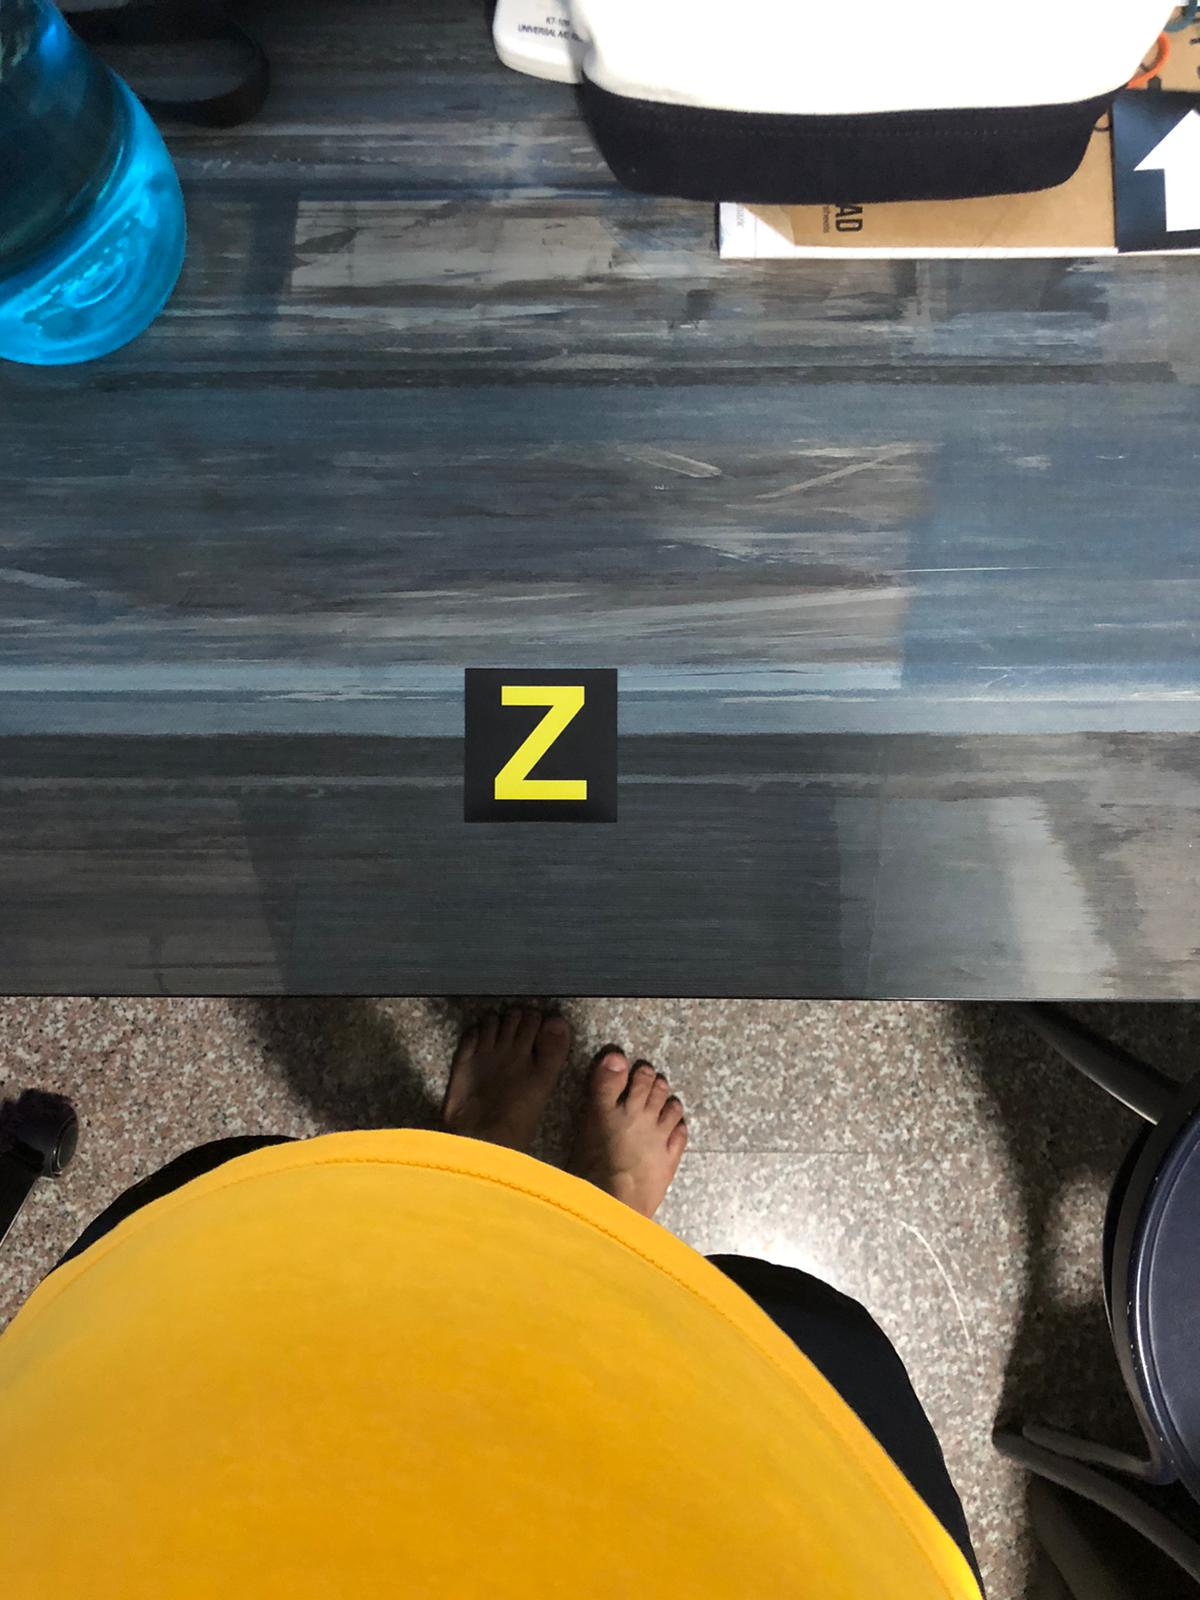Z: (463, 677, 621, 819)
